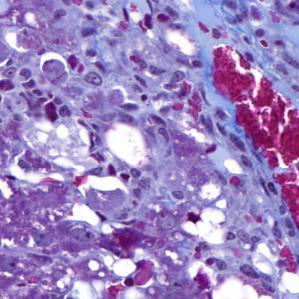ballooning: (19, 114, 101, 176), (104, 120, 152, 174)
